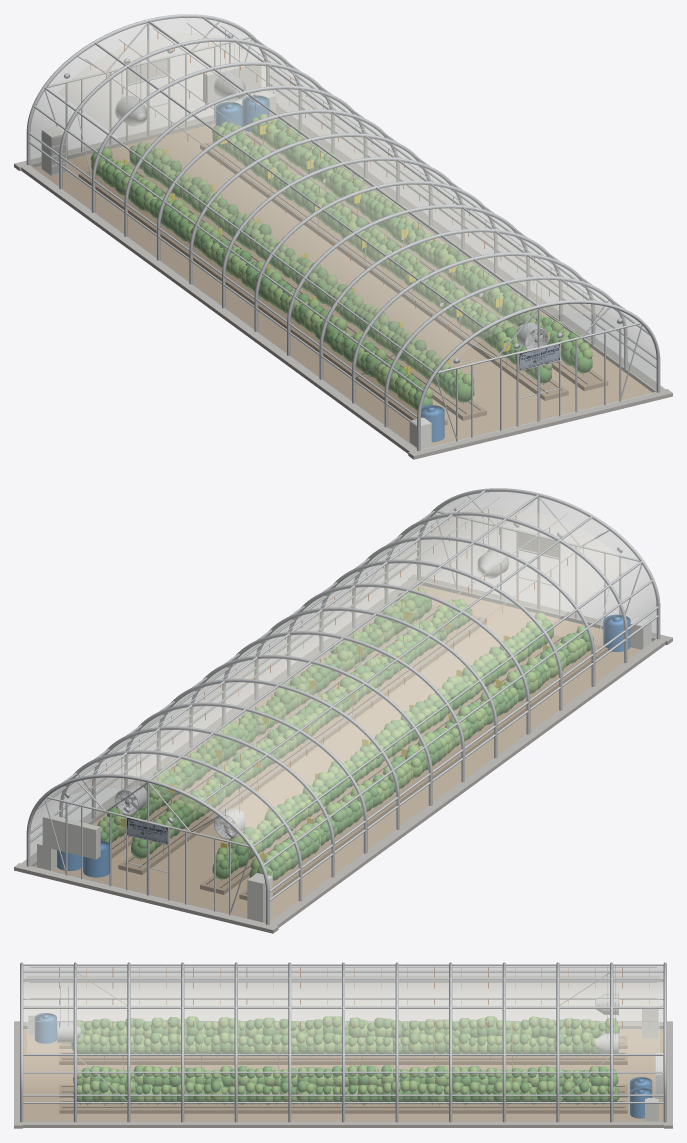
File: ferti.glb
3 renders of one model, top to bottom at view 1: azimuth 30°, elevation 25°; view 2: azimuth 150°, elevation 25°; view 3: azimuth 270°, elevation 25°, orthographic. The views are drawn at different scales.
Parts seen in each view (by area): view 1: Malla_antiafido, Cortina_interior, Estructura_galvanizada, Suelo, Planta_verde_oscuro, Planta_verde_claro, Camellon, Base_concreto, Gabinete_blanco, Ventilador_carcasa, Tanque_azul, Trampa_amarilla (+3 smaller); view 2: Malla_antiafido, Cortina_interior, Estructura_galvanizada, Suelo, Planta_verde_oscuro, Planta_verde_claro, Camellon, Base_concreto, Gabinete_blanco, Ventilador_carcasa, Tanque_azul, Trampa_amarilla (+4 smaller); view 3: Malla_antiafido, Cortina_interior, Estructura_galvanizada, Planta_verde_claro, Planta_verde_oscuro, Suelo, Camellon, Base_concreto, Manguera_goteo, Gabinete_blanco, Tanque_azul, Ventilador_carcasa (+2 smaller).
Boxes of the visible parts, bbox=[...] form: Malla_antiafido: bbox=[30, 17, 656, 449]; Cortina_interior: bbox=[59, 33, 616, 373]; Estructura_galvanizada: bbox=[26, 14, 660, 451]; Suelo: bbox=[35, 119, 651, 446]; Planta_verde_oscuro: bbox=[90, 117, 592, 410]; Planta_verde_claro: bbox=[98, 114, 592, 408]; Camellon: bbox=[78, 132, 608, 424]; Base_concreto: bbox=[14, 103, 672, 459]; Gabinete_blanco: bbox=[41, 59, 431, 448]; Ventilador_carcasa: bbox=[64, 33, 622, 364]; Tanque_azul: bbox=[215, 95, 444, 442]; Trampa_amarilla: bbox=[121, 125, 549, 374]; Malla_antiafido: bbox=[30, 491, 656, 923]; Cortina_interior: bbox=[70, 507, 627, 847]; Estructura_galvanizada: bbox=[26, 488, 660, 925]; Suelo: bbox=[35, 585, 640, 922]; Planta_verde_oscuro: bbox=[100, 593, 593, 880]; Planta_verde_claro: bbox=[97, 588, 586, 879]; Camellon: bbox=[111, 605, 608, 900]; Base_concreto: bbox=[14, 575, 672, 933]; Gabinete_blanco: bbox=[37, 617, 651, 922]; Ventilador_carcasa: bbox=[64, 507, 622, 839]; Tanque_azul: bbox=[57, 614, 630, 877]; Trampa_amarilla: bbox=[120, 611, 549, 860]; Malla_antiafido: bbox=[23, 965, 663, 1121]; Cortina_interior: bbox=[27, 976, 659, 1053]; Estructura_galvanizada: bbox=[20, 962, 666, 1122]; Planta_verde_claro: bbox=[77, 1016, 615, 1104]; Planta_verde_oscuro: bbox=[71, 1016, 619, 1104]; Suelo: bbox=[23, 1029, 663, 1121]; Camellon: bbox=[59, 1036, 627, 1113]; Base_concreto: bbox=[14, 1021, 672, 1128]; Manguera_goteo: bbox=[62, 1037, 624, 1107]; Gabinete_blanco: bbox=[28, 1000, 662, 1121]; Tanque_azul: bbox=[34, 1013, 652, 1118]; Ventilador_carcasa: bbox=[57, 993, 618, 1053].
Bounding box in the file's own units: 9.2 × 4.08 × 24.58.
Materials: 22 (1 with a texture image).
